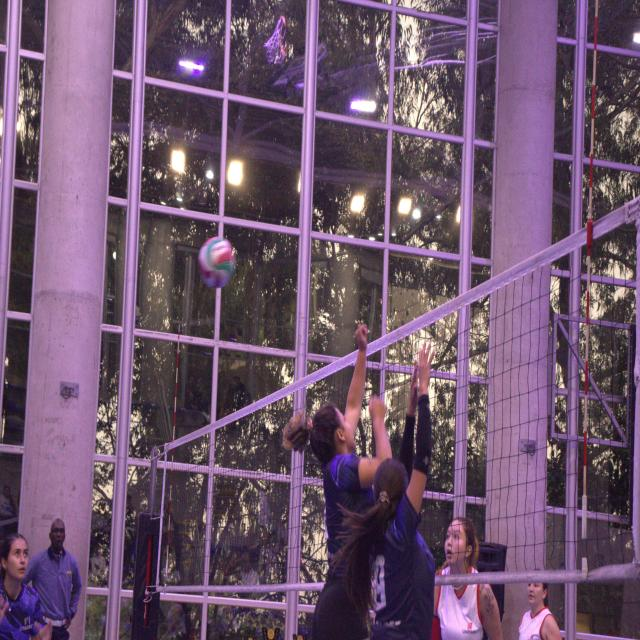volleyball: (198, 236, 235, 288)
